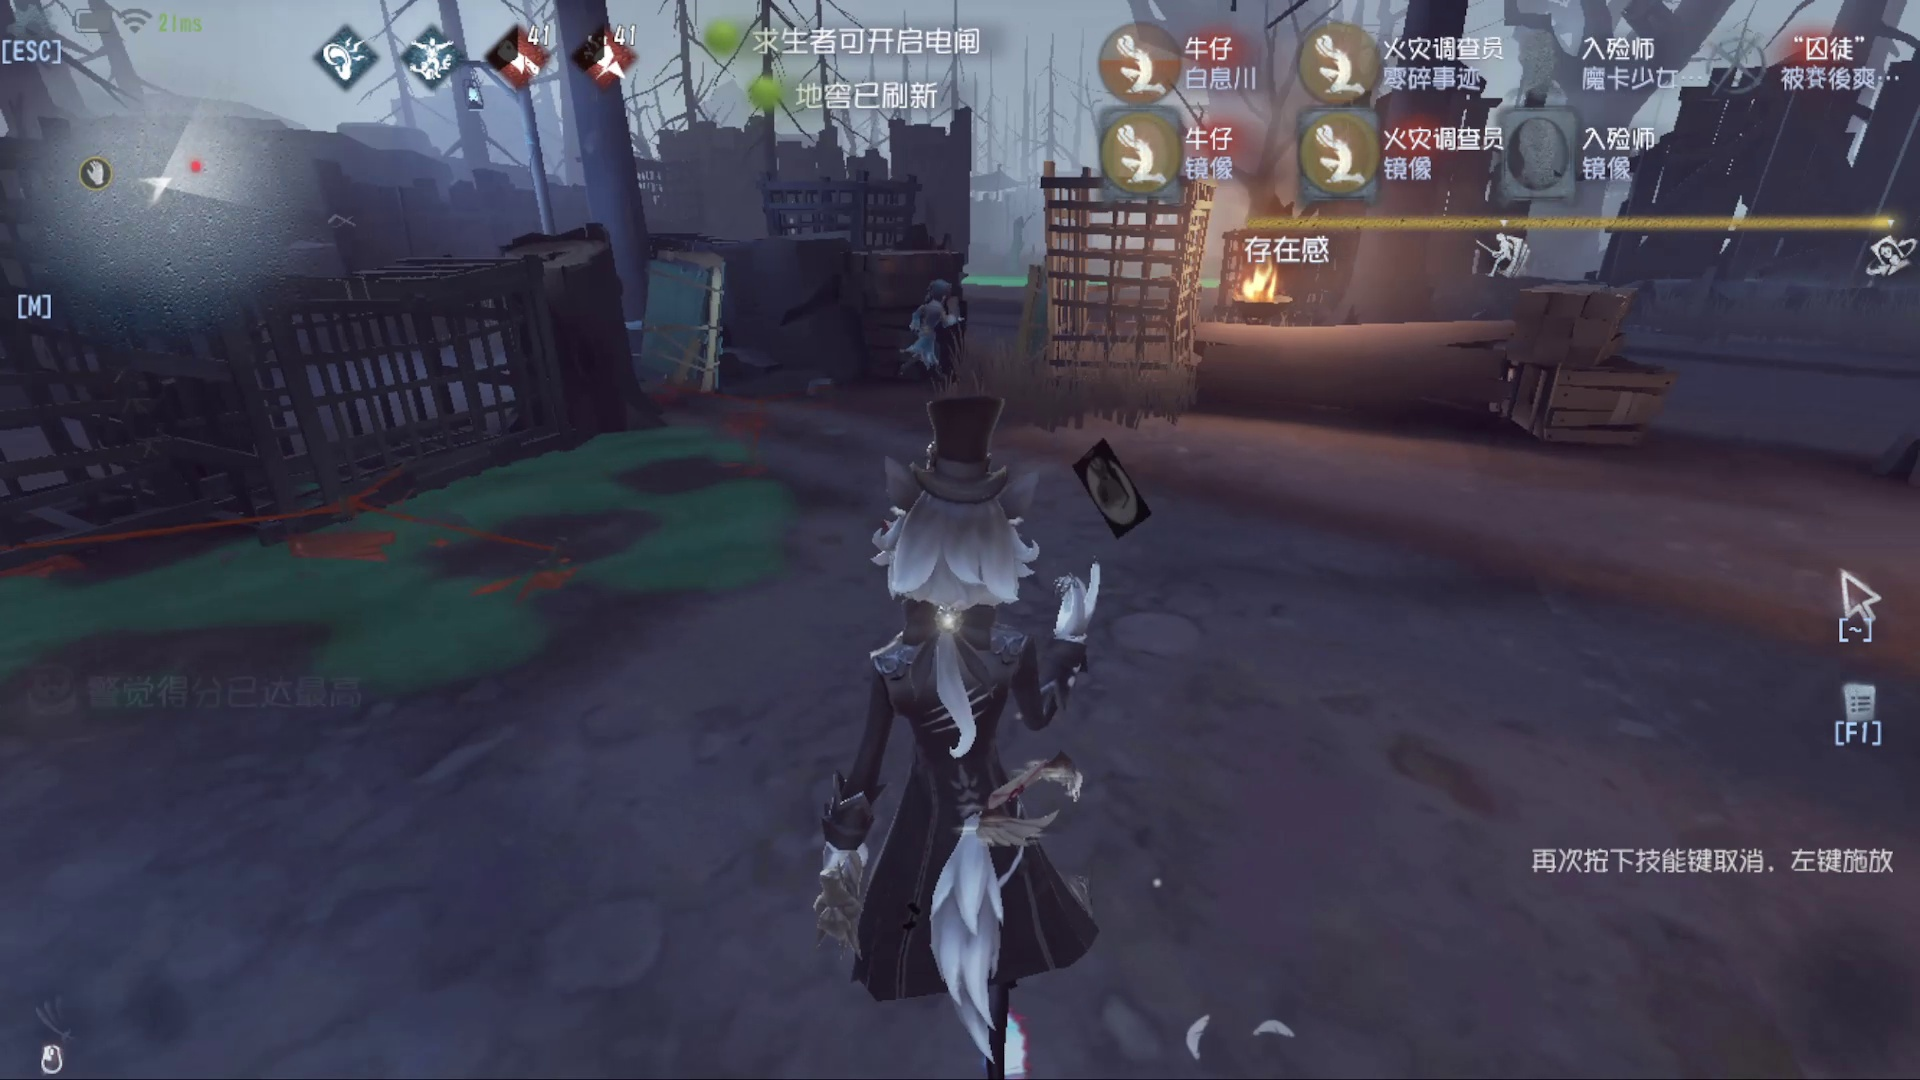木板: (593, 222, 756, 410), (1014, 240, 1089, 400)
求生者: (898, 258, 963, 377)
